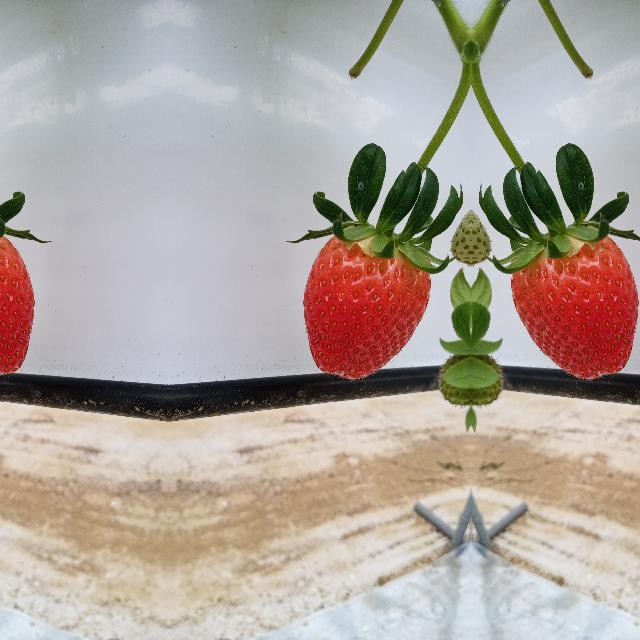Health_100: (300, 232, 432, 382), (509, 232, 640, 381), (0, 232, 35, 381)
